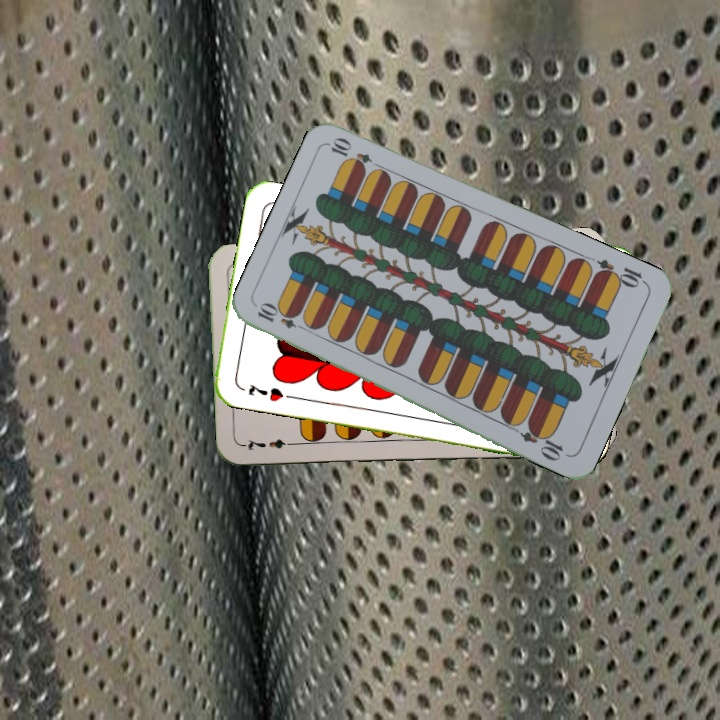E10: (591, 255, 649, 291), (253, 301, 311, 334)
E7: (241, 435, 300, 453)
H7: (244, 380, 286, 404)
